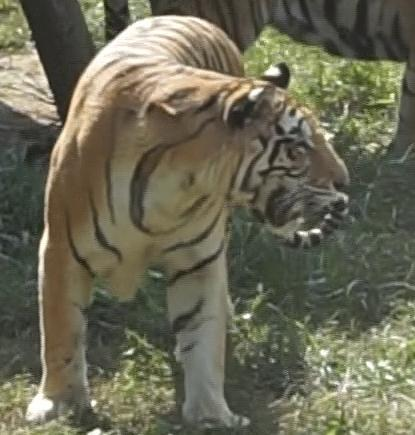tiger: (27, 16, 348, 427)
